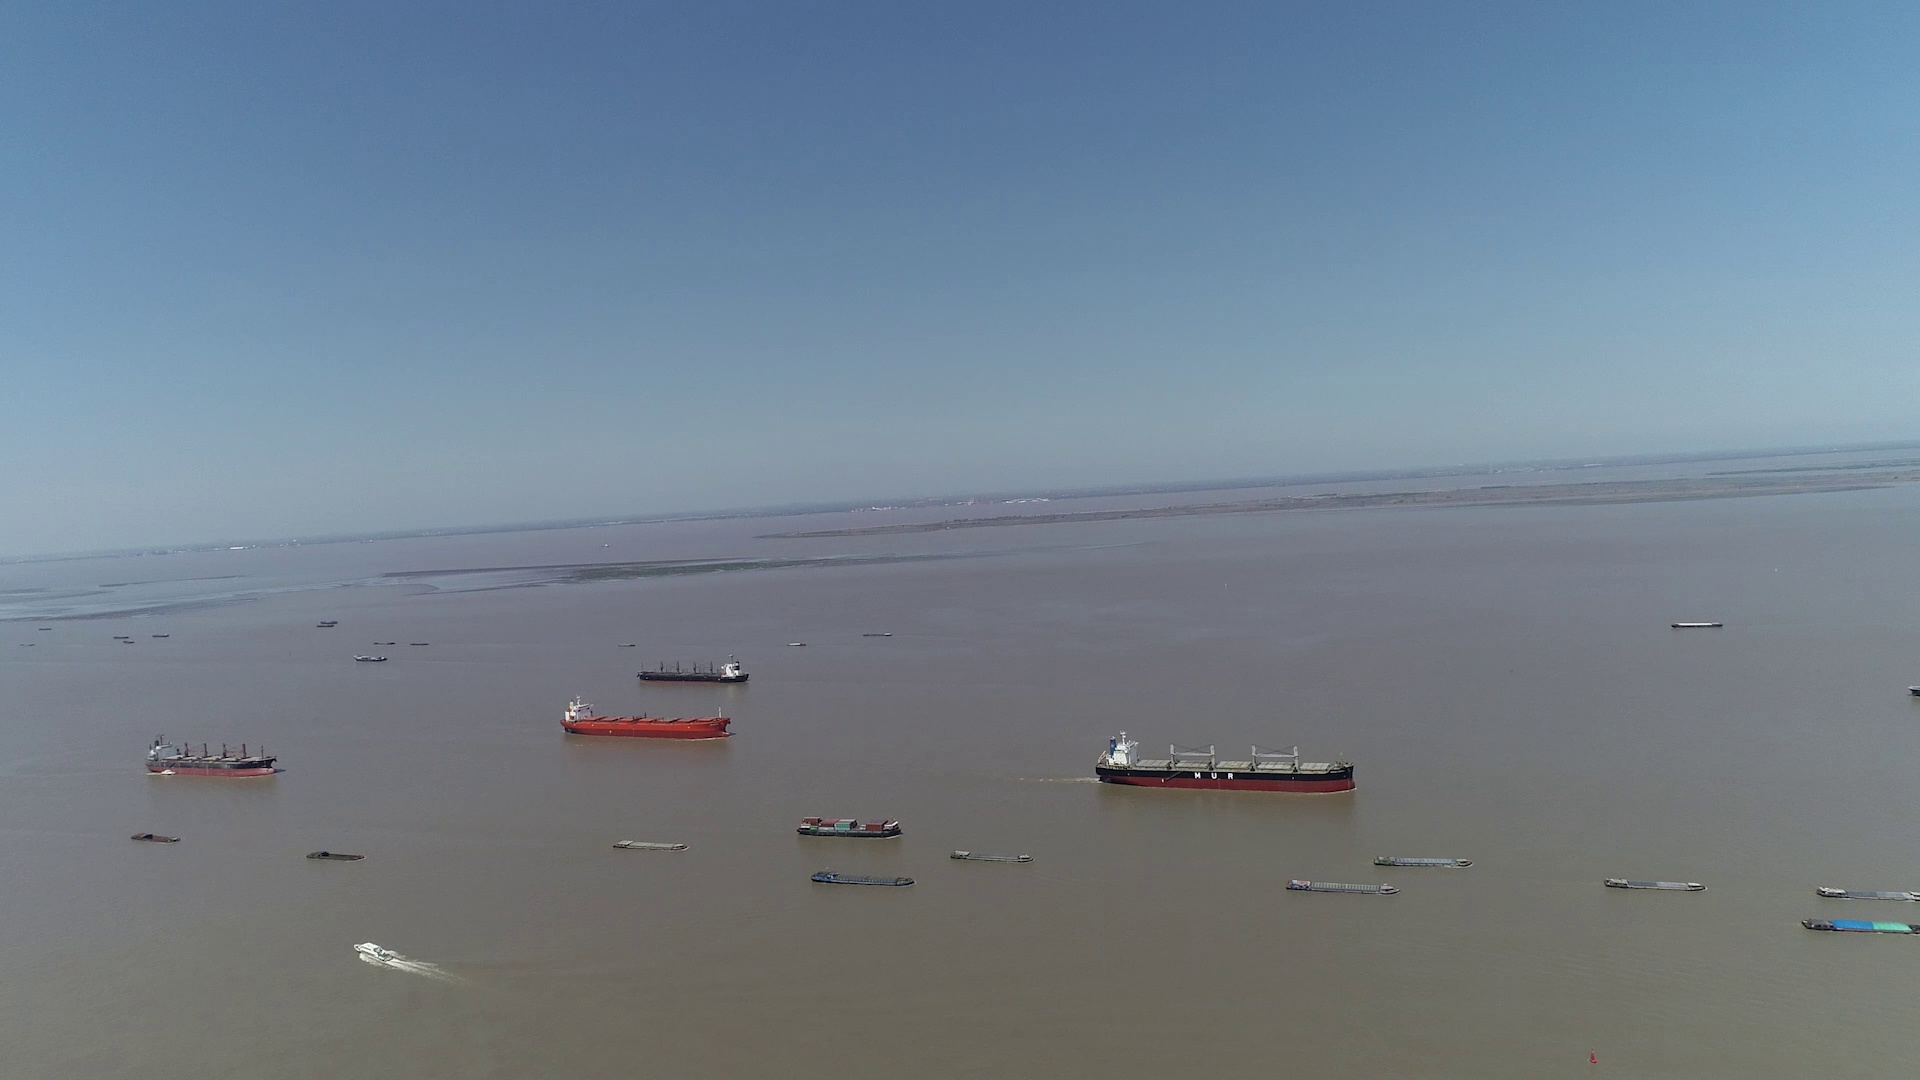ship: (1095, 731, 1356, 794), (558, 698, 731, 740), (146, 731, 278, 777), (636, 654, 746, 683), (1801, 913, 1917, 935), (796, 816, 902, 837), (1287, 877, 1400, 895), (811, 869, 914, 887), (1816, 886, 1917, 905), (360, 938, 414, 969), (1605, 876, 1706, 891), (1374, 853, 1469, 866), (953, 848, 1033, 862), (607, 837, 688, 851), (305, 851, 364, 862), (131, 832, 178, 843), (1671, 621, 1722, 628), (357, 651, 388, 659), (111, 634, 131, 640)
